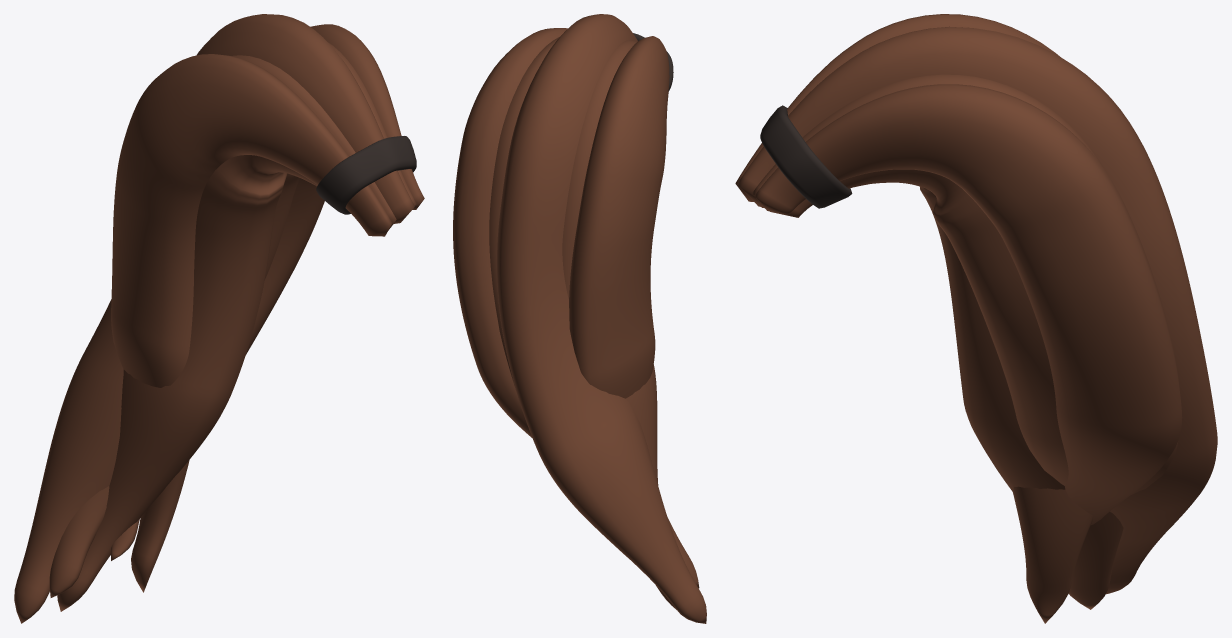
The model's file is ponytail-beanie-default.glb.
The picture shows the model from 3 angles, left to right: view 1: azimuth 30°, elevation 25°; view 2: azimuth 150°, elevation 25°; view 3: azimuth 270°, elevation 25°; orthographic projection. The views are drawn at different scales.
Visible parts, largest first — view 1: Hair / rounded tail220 0, Hair / rounded tail220 1, Hair / rounded tail220 2, Hair / rounded tail220 3, Hair / rounded tail220 4, Hair / tie220; view 2: Hair / rounded tail220 2, Hair / rounded tail220 0, Hair / rounded tail220 4, Hair / rounded tail220 1, Hair / rounded tail220 3; view 3: Hair / rounded tail220 4, Hair / rounded tail220 2, Hair / rounded tail220 3, Hair / rounded tail220 1, Hair / rounded tail220 0, Hair / tie220.
Boxes of the visible parts, x1=… form: Hair / rounded tail220 0: x1=111, y1=54, x2=392, y2=592; Hair / rounded tail220 1: x1=57, y1=55, x2=396, y2=611; Hair / rounded tail220 2: x1=14, y1=14, x2=414, y2=623; Hair / rounded tail220 3: x1=49, y1=42, x2=416, y2=597; Hair / rounded tail220 4: x1=111, y1=24, x2=424, y2=560; Hair / tie220: x1=316, y1=136, x2=416, y2=214; Hair / rounded tail220 2: x1=497, y1=14, x2=706, y2=623; Hair / rounded tail220 0: x1=569, y1=36, x2=669, y2=398; Hair / rounded tail220 4: x1=453, y1=28, x2=567, y2=437; Hair / rounded tail220 1: x1=562, y1=40, x2=676, y2=609; Hair / rounded tail220 3: x1=489, y1=36, x2=699, y2=588; Hair / rounded tail220 4: x1=754, y1=84, x2=1182, y2=524; Hair / rounded tail220 2: x1=737, y1=26, x2=1217, y2=594; Hair / rounded tail220 3: x1=752, y1=74, x2=1178, y2=494; Hair / rounded tail220 1: x1=761, y1=186, x2=1123, y2=609; Hair / rounded tail220 0: x1=735, y1=14, x2=1092, y2=623; Hair / tie220: x1=760, y1=105, x2=852, y2=208.
Bounding box in the file's own units: 0.2132 × 0.4144 × 0.2657.
